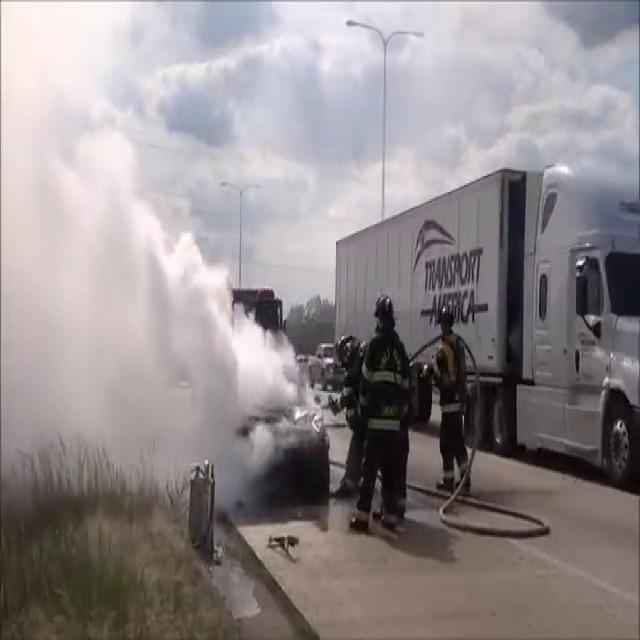Smoke: (2, 98, 310, 505)
